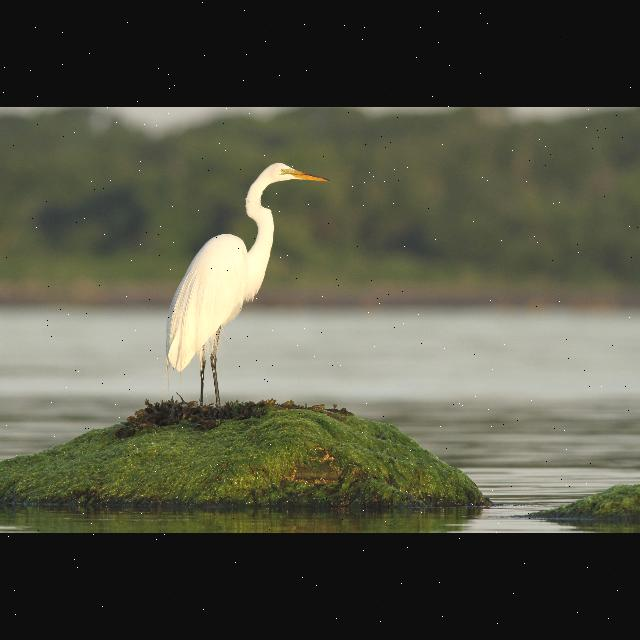egret: (162, 150, 334, 408)
